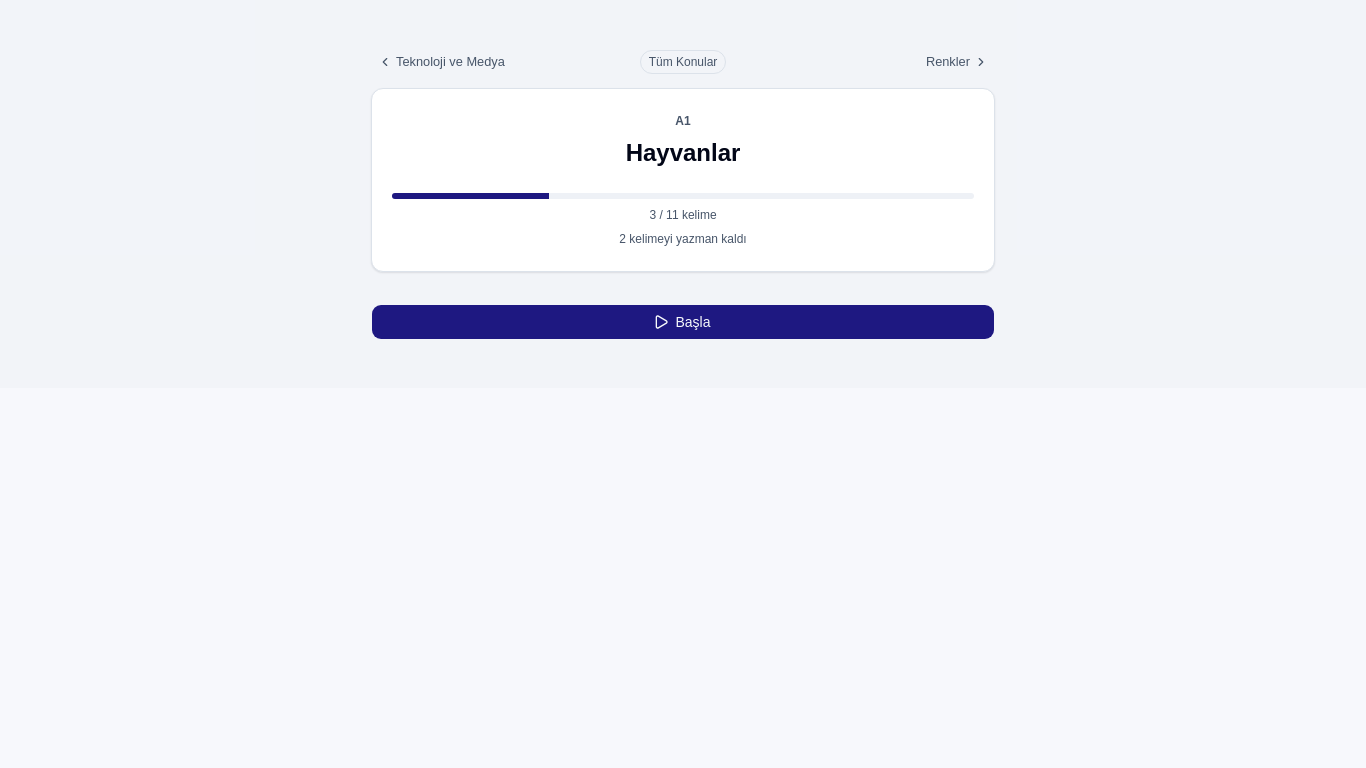
StudyHomePage › expands another level without collapsing the current level
Click the button "Tüm Konular".
click(683, 62)  # box [640,50,726,74]
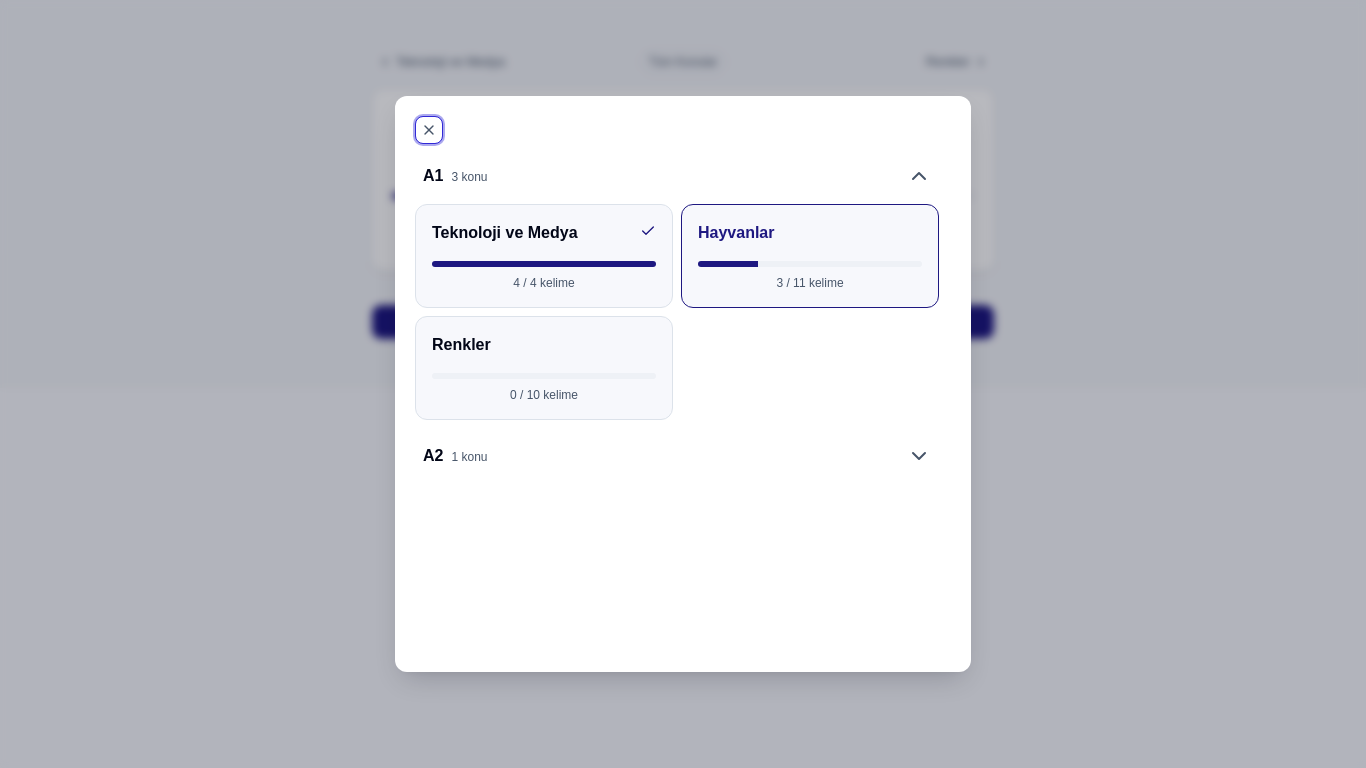
Click the button "A2 1 konu".
click(433, 456)  # box [415,436,939,476]
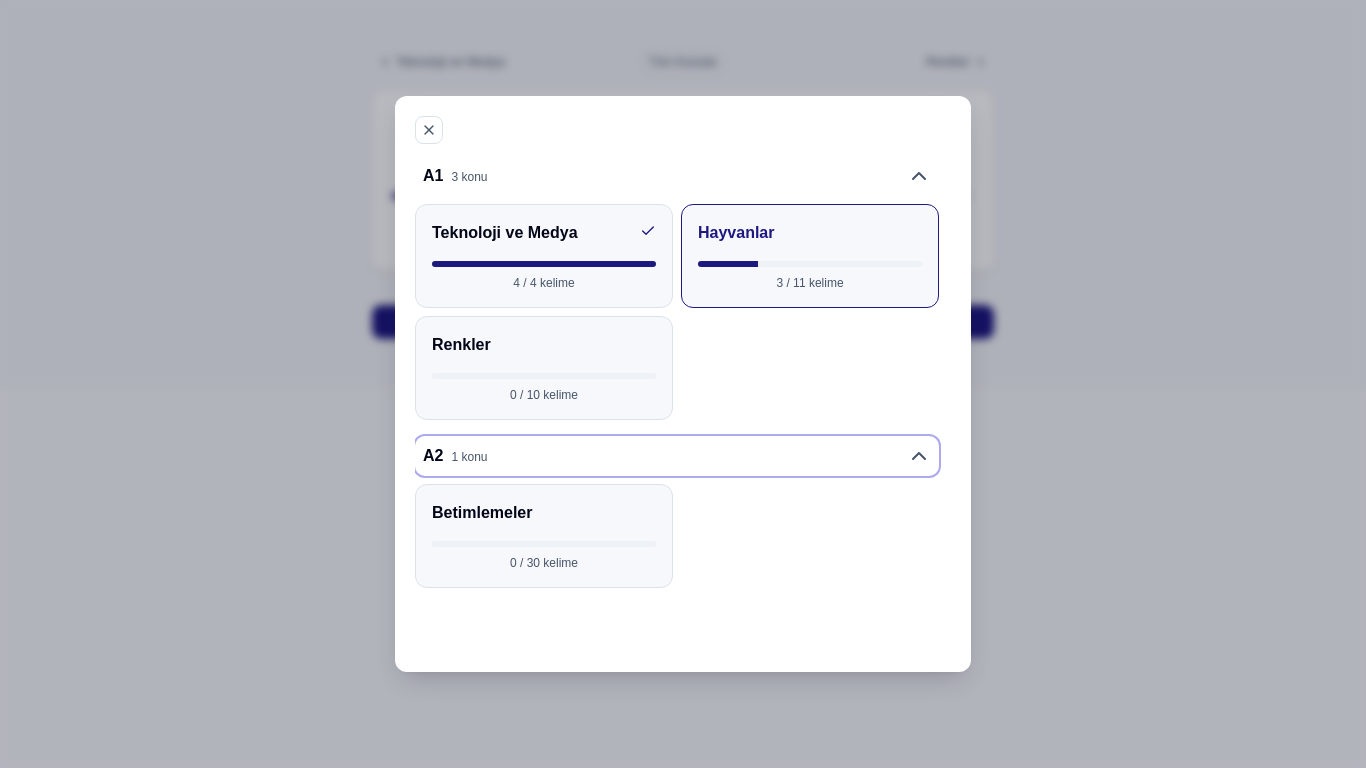
Expected: the list named "A1 konuları" is shown, [415,204,939,420]
Expected: the button "A2 1 konu" is expanded, [415,436,939,476]
Expected: the list named "A2 konuları" shows "Betimlemeler", [415,484,673,588]
